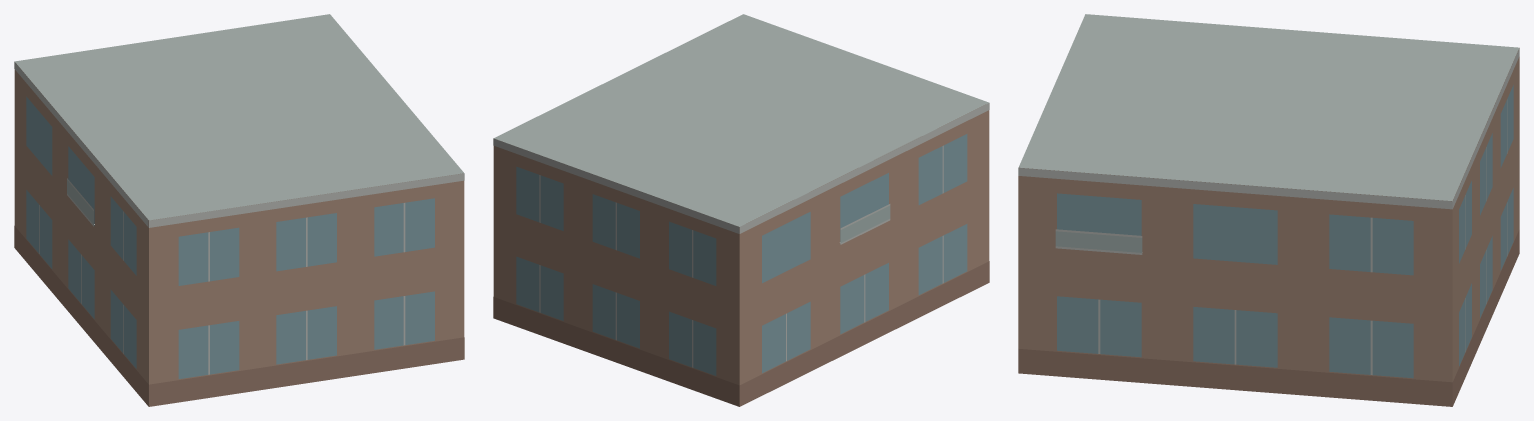
File: survey-upis-32714686.glb
3 renders of one model, left to right at view 1: azimuth 30°, elevation 25°; view 2: azimuth 150°, elevation 25°; view 3: azimuth 270°, elevation 25°, orthographic. The views are drawn at different scales.
Parts seen in each view (by area): view 1: survey-upis-32714686.tmp; view 2: survey-upis-32714686.tmp; view 3: survey-upis-32714686.tmp.
Boxes of the visible parts, x1,y1,x2,y2 form: survey-upis-32714686.tmp: (14,14,464,406); survey-upis-32714686.tmp: (493,14,989,406); survey-upis-32714686.tmp: (1018,14,1519,406).
Size of the model in its own units: 11.91 by 6.1 by 13.48.
